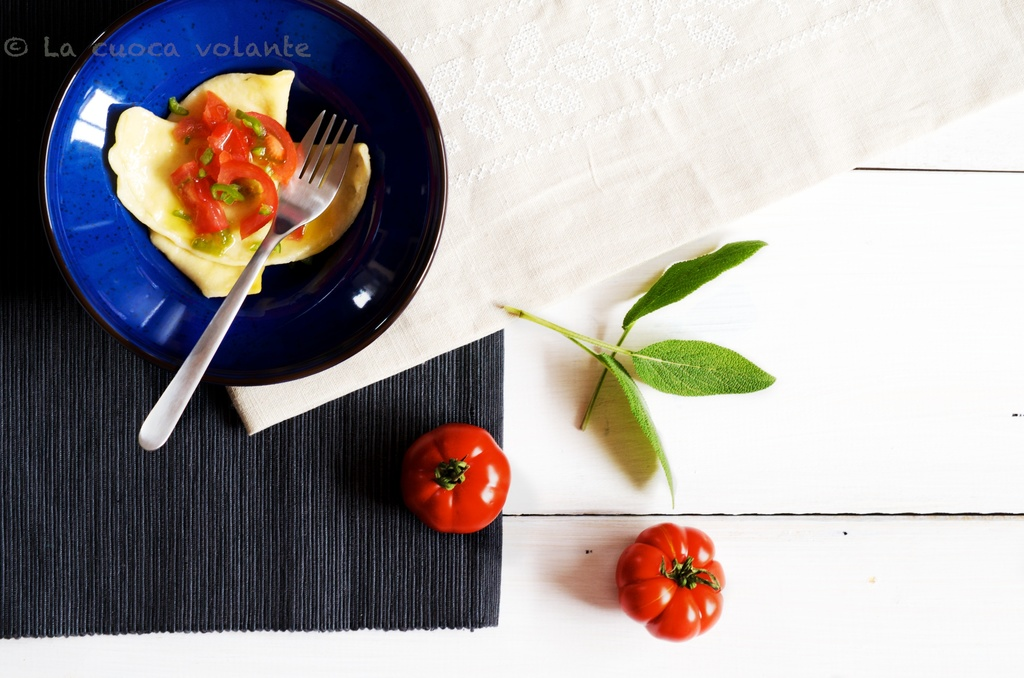Tomato: (169, 84, 293, 234), (613, 521, 725, 642), (411, 425, 508, 530)
